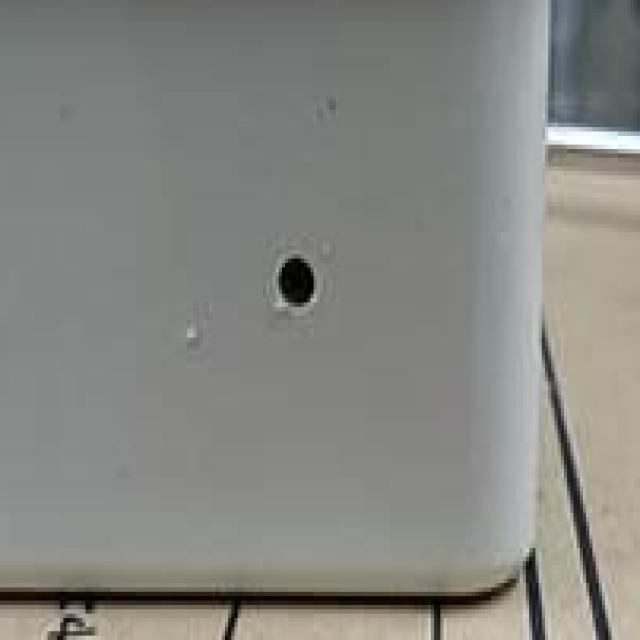hidden camera: (260, 235, 339, 328)
